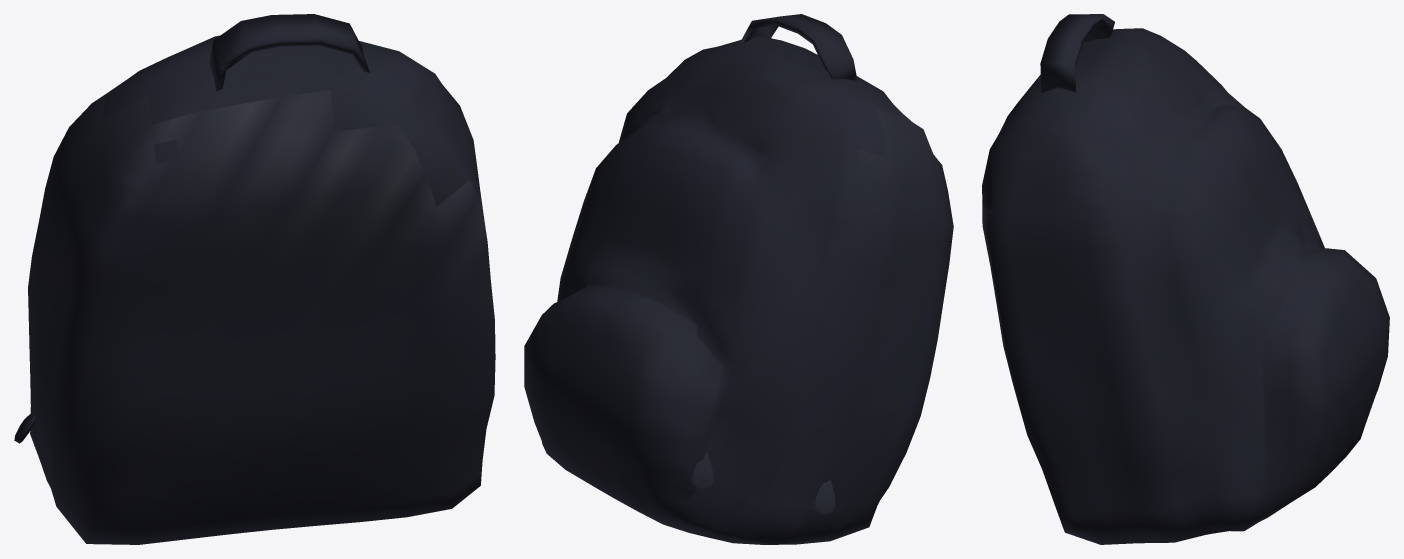
The model's file is mochila.fbx.
3 views of the same model, side by side, from view 1: azimuth 30°, elevation 25°; view 2: azimuth 150°, elevation 25°; view 3: azimuth 270°, elevation 25° (orthographic). The views are drawn at different scales.
Parts seen in each view (by area): view 1: Mochila; view 2: Mochila; view 3: Mochila.
Boxes of the visible parts, <box> form: Mochila: <box>14,14,495,544</box>; Mochila: <box>524,14,953,544</box>; Mochila: <box>982,14,1389,544</box>.
Bounding box in the file's own units: 53.51 × 66.48 × 52.8.
